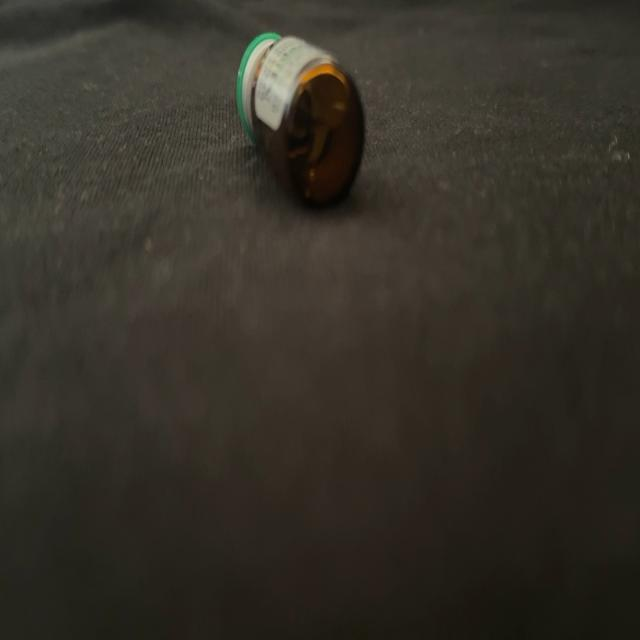midazolm: (238, 35, 363, 206)
